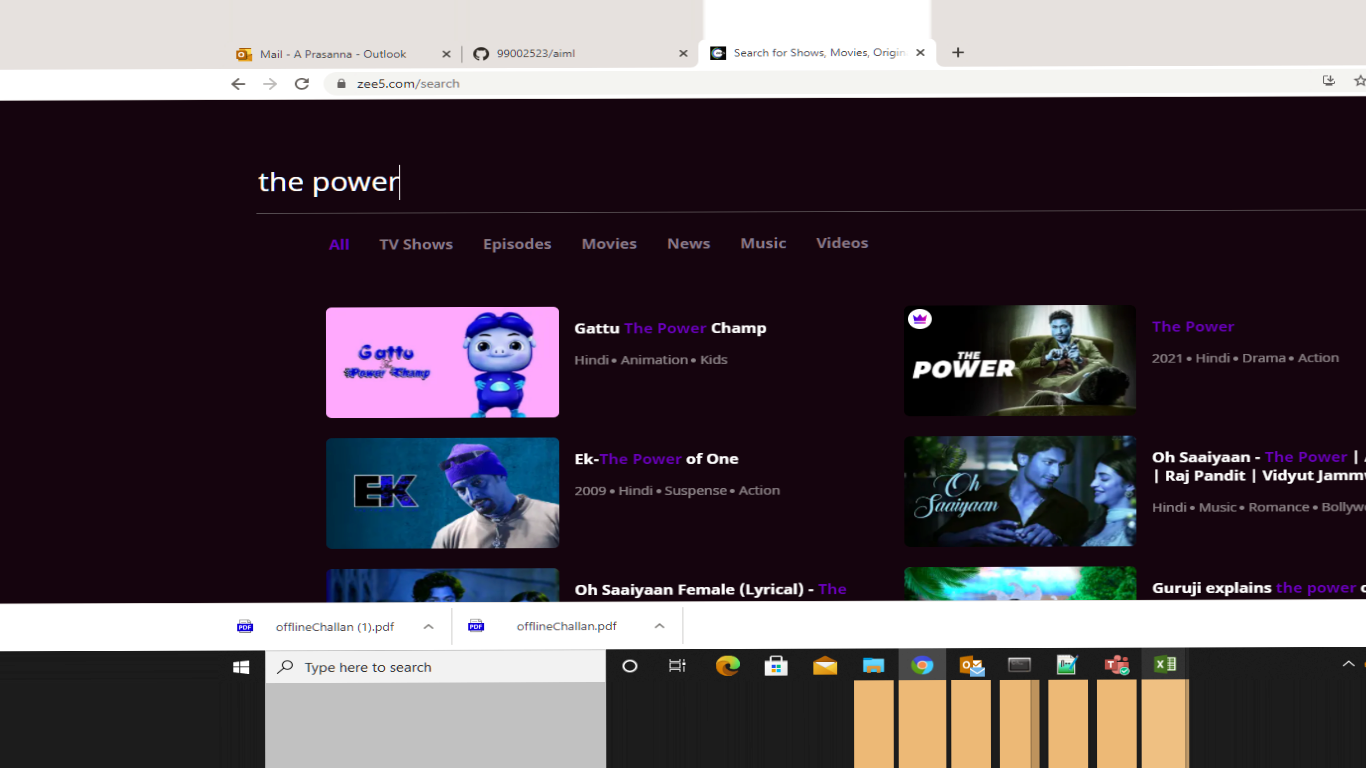searchtextbox: (261, 129, 1330, 220)
